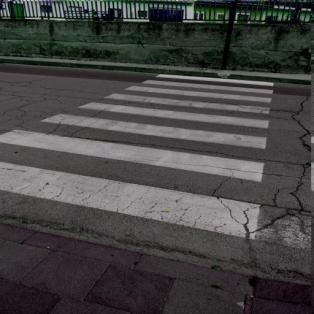Paso de Cebra: (16, 101, 276, 153), (104, 72, 282, 95)
